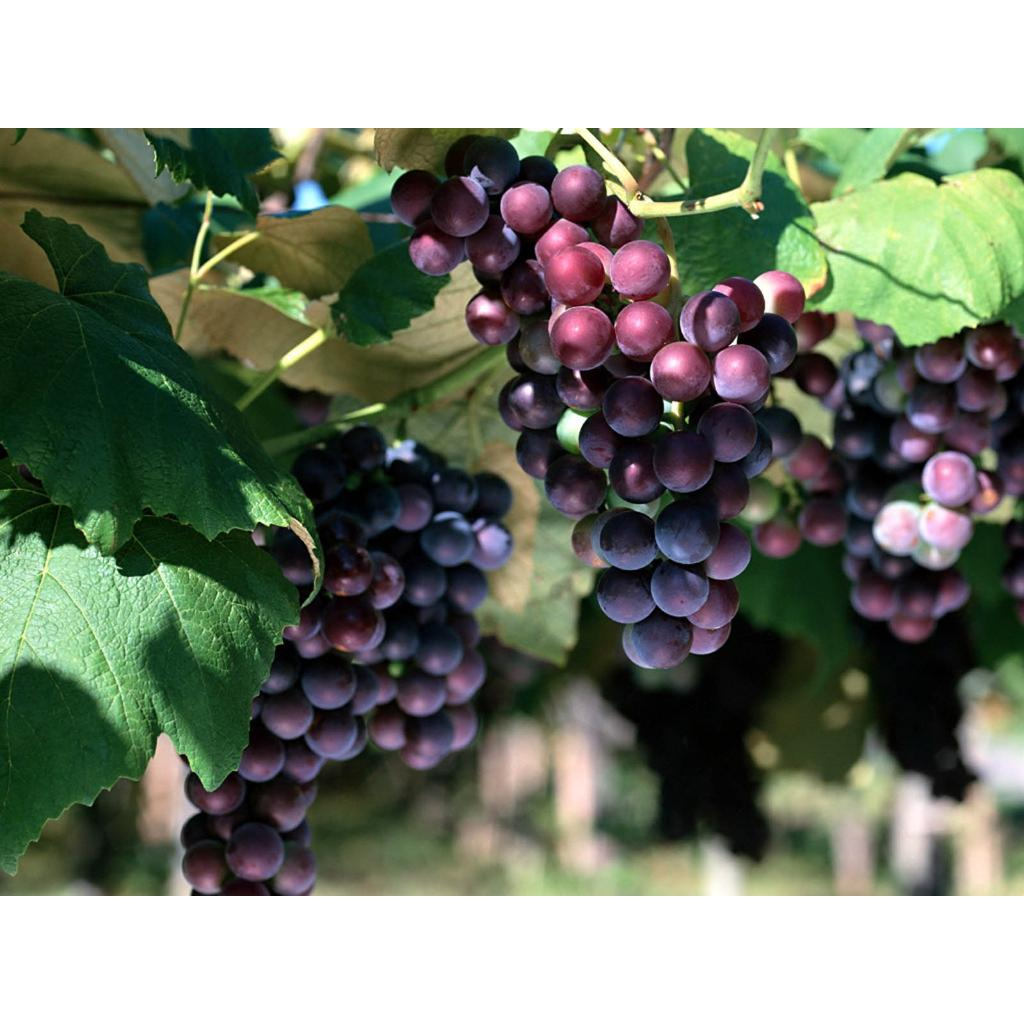grape: (390, 128, 805, 667), (181, 424, 511, 893), (774, 319, 1023, 642), (1000, 509, 1023, 621)
